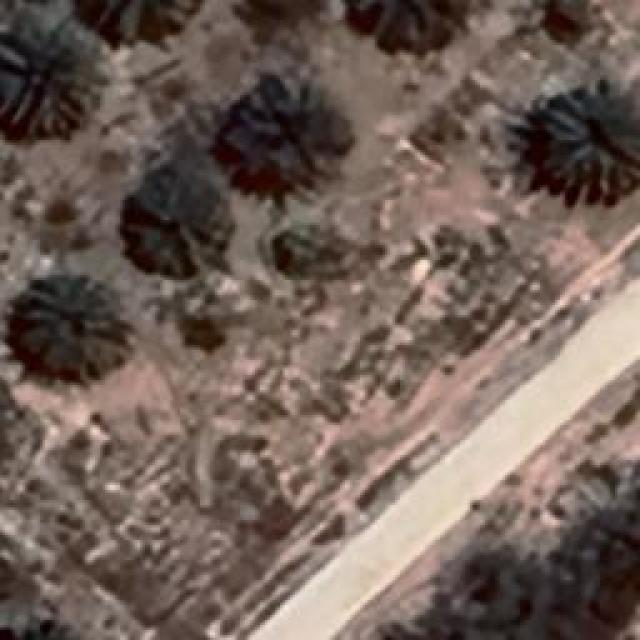PalmTree: (45, 25, 178, 628), (211, 66, 351, 202), (0, 12, 110, 138), (14, 272, 128, 380), (542, 80, 638, 198), (344, 0, 478, 48), (78, 1, 192, 49), (600, 496, 640, 604), (236, 0, 324, 41), (0, 622, 91, 640)
